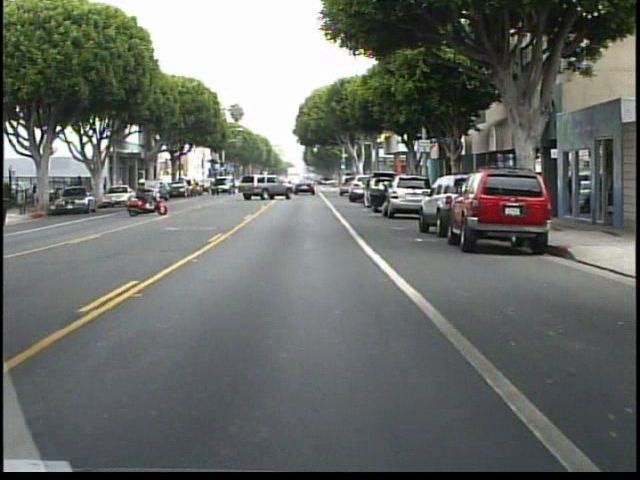person: (136, 178, 159, 213), (75, 171, 92, 207)
